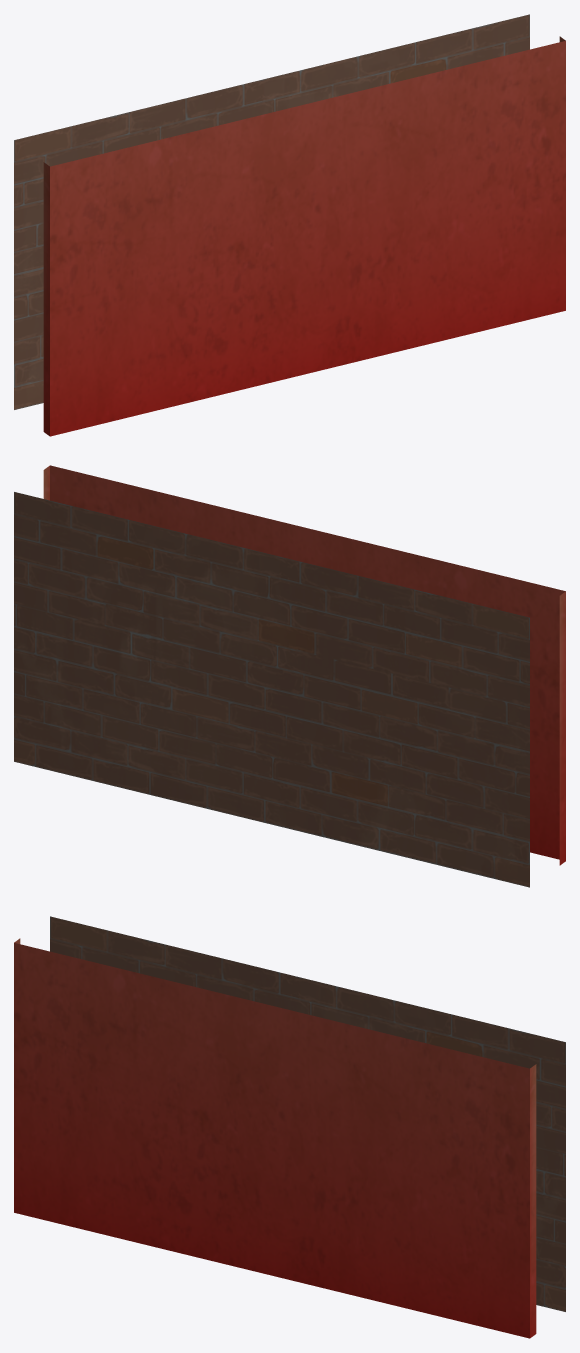
Rendered from q-downtown-metal-firstfloor-wall-1.glb.
3 renders of one model, top to bottom at view 1: azimuth 30°, elevation 25°; view 2: azimuth 150°, elevation 25°; view 3: azimuth 330°, elevation 25°, orthographic.
Visible parts, largest first — view 1: Metal_FirstFloor_Wall_1; view 2: Metal_FirstFloor_Wall_1; view 3: Metal_FirstFloor_Wall_1.
Boxes of the visible parts, left/top/right/bottom form: Metal_FirstFloor_Wall_1: left=14, top=14, right=565, bottom=436; Metal_FirstFloor_Wall_1: left=14, top=465, right=565, bottom=887; Metal_FirstFloor_Wall_1: left=14, top=916, right=565, bottom=1338.
Size of the model in its own units: 2 by 1 by 0.242.
Materials: 2 (2 with a texture image).
